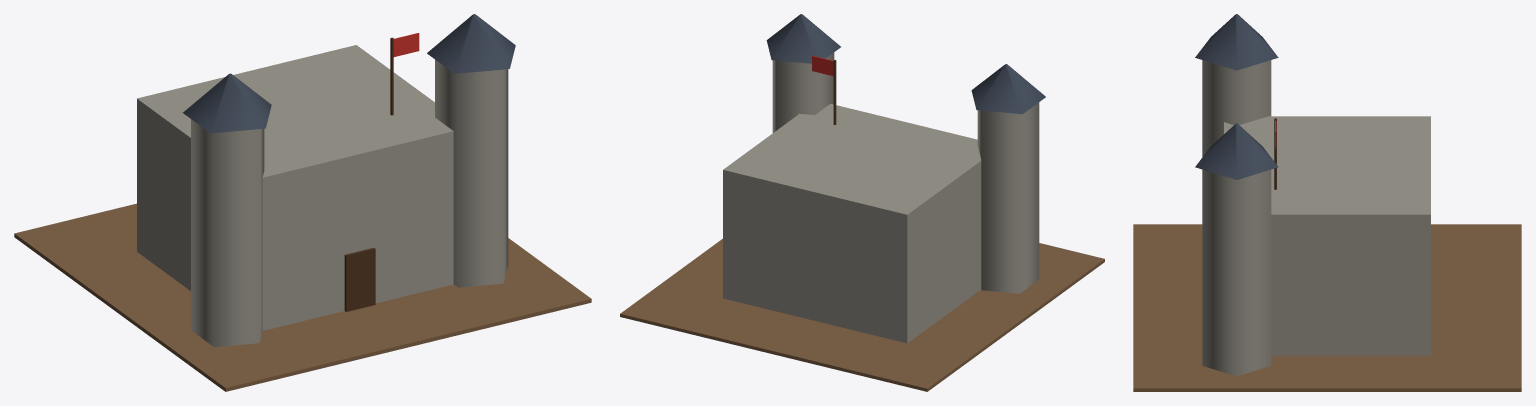
Rendered from bld_special_command_center_a03_lod2.glb.
The picture shows the model from 3 angles, left to right: view 1: azimuth 30°, elevation 25°; view 2: azimuth 150°, elevation 25°; view 3: azimuth 270°, elevation 25°; orthographic projection. The views are drawn at different scales.
Visible parts, largest first — view 1: body; view 2: body; view 3: body.
Boxes of the visible parts, <box> form: body: <box>14,14,591,391</box>; body: <box>620,14,1104,391</box>; body: <box>1133,14,1521,391</box>.
Size of the model in its own units: 15 by 10.25 by 15.
